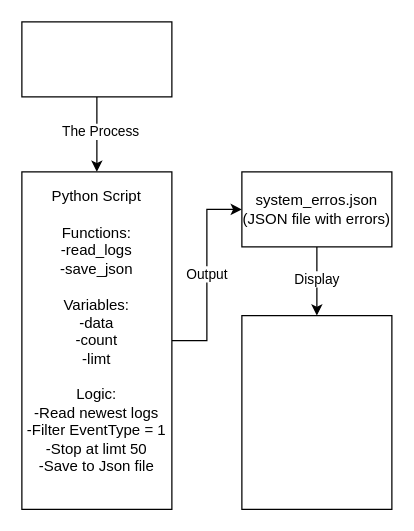
The diagram is 414 pixels wide and 531 high, and some of its shapes have lost their labels. The shapes that lost their labels are listed below. From the top down, each one's centre as x and y in pixels, then its label:
At (x=96, y=59): "Windows System Logs (The Source)".
At (x=316, y=411): "web Page (HTML +JS) -fetch JSON file -display errors in html table".
